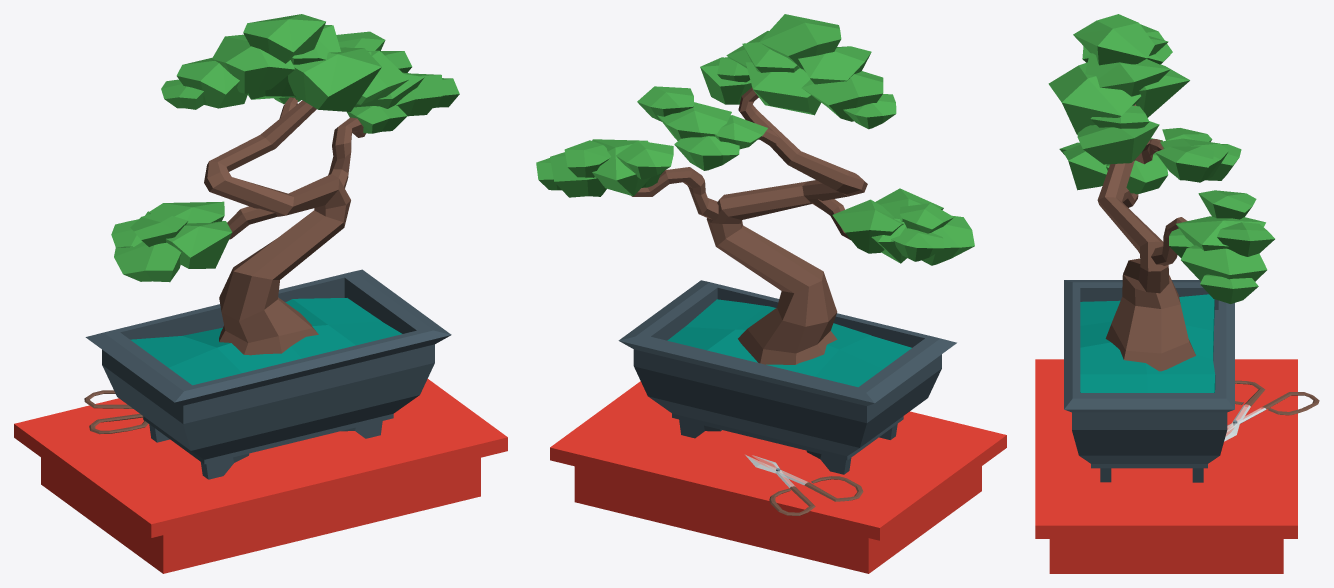
The model's file is Bonsai.glb.
3 renders of one model, left to right at view 1: azimuth 30°, elevation 25°; view 2: azimuth 150°, elevation 25°; view 3: azimuth 270°, elevation 25°, orthographic. The views are drawn at different scales.
Visible parts, largest first — view 1: group430673059; view 2: group430673059; view 3: group430673059.
Boxes of the visible parts, <box> form: group430673059: <box>14,14,507,573</box>; group430673059: <box>536,14,1006,573</box>; group430673059: <box>1035,14,1319,573</box>.
Bounding box in the file's own units: 1.53 × 1.78 × 0.9741.
